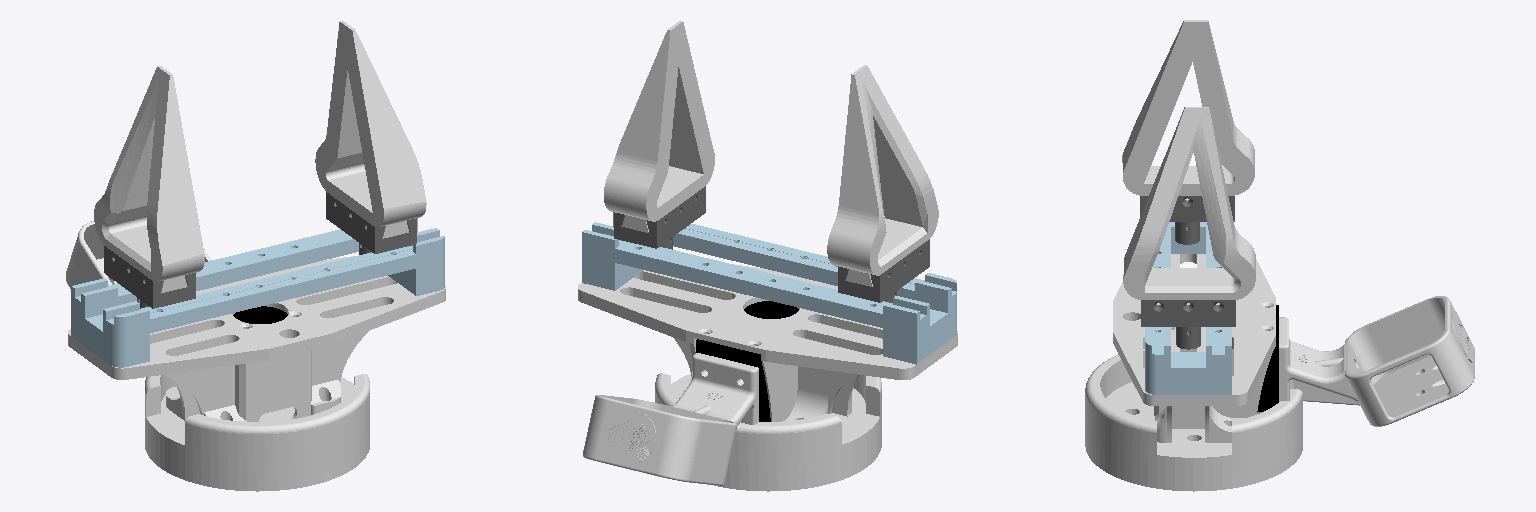
The robot description file, URDF, robot "aloha4franka":
<?xml version="1.0" ?>
<!-- Generated using onshape-to-robot -->
<!-- Onshape https://cad.onshape.com/documents/822c78063286bb98e41ccf48/w/29c938ccac0b1bc6b7904035/e/f3e0108e415eaf8cfb9b64a8 -->
<robot name="aloha4franka">
  <!-- Root link = base_link frame (at origin, axis-aligned) -->
  <link name="base_link"/>
  <joint name="base_link_to_backplate" type="fixed">
    <origin xyz="0 0 0" rpy="0 0 -0.191297"/>
    <parent link="base_link"/>
    <child link="gripper_backplate_v1"/>
  </joint>
  <!-- Link gripper_backplate_v1 -->
  <link name="gripper_backplate_v1">
    <inertial>
      <origin xyz="-0.0021023 0.007873 0.026097" rpy="0 0 0"/>
      <mass value="0.267147"/>
      <inertia ixx="0.000335963" ixy="-4.63353e-06" ixz="-4.17123e-07" iyy="0.000385312" iyz="3.232e-06" izz="0.000470658"/>
    </inertial>
    <!-- Part mocked_motor -->
    <visual>
      <origin xyz="-0.0035789 0.010591 0.012" rpy="0 0 -2.9503"/>
      <geometry>
        <mesh filename="package://assets/mocked_motor.stl"/>
      </geometry>
      <material name="mocked_motor_material">
        <color rgba="0 0 0 1"/>
      </material>
    </visual>
    <collision>
      <origin xyz="-0.0035789 0.010591 0.012" rpy="0 0 -2.9503"/>
      <geometry>
        <mesh filename="package://assets/mocked_motor.stl"/>
      </geometry>
    </collision>
    <!-- Part back_connector -->
    <visual>
      <origin xyz="0 0 0.0755003" rpy="3.14159 -0 0.191297"/>
      <geometry>
        <mesh filename="package://assets/back_connector.stl"/>
      </geometry>
      <material name="back_connector_material">
        <color rgba="0.917647 0.917647 0.917647 1"/>
      </material>
    </visual>
    <collision>
      <origin xyz="0 0 0.0755003" rpy="3.14159 -0 0.191297"/>
      <geometry>
        <mesh filename="package://assets/back_connector.stl"/>
      </geometry>
    </collision>
    <!-- Part aloha_camera_holder -->
    <visual>
      <origin xyz="-0.0079995 0.033417 0.026" rpy="0.191297 -1.5708 0"/>
      <geometry>
        <mesh filename="package://assets/aloha_camera_holder.stl"/>
      </geometry>
      <material name="aloha_camera_holder_material">
        <color rgba="0.917647 0.917647 0.917647 1"/>
      </material>
    </visual>
    <collision>
      <origin xyz="-0.0079995 0.033417 0.026" rpy="0.191297 -1.5708 0"/>
      <geometry>
        <mesh filename="package://assets/aloha_camera_holder.stl"/>
      </geometry>
    </collision>
    <!-- Part bridge_rail_helper -->
    <visual>
      <origin xyz="0.070765 0.029063 0.0484003" rpy="0 0 -2.9503"/>
      <geometry>
        <mesh filename="package://assets/bridge_rail_helper.stl"/>
      </geometry>
      <material name="bridge_rail_helper_material">
        <color rgba="0.768627 0.886275 0.952941 1"/>
      </material>
    </visual>
    <collision>
      <origin xyz="0.070765 0.029063 0.0484003" rpy="0 0 -2.9503"/>
      <geometry>
        <mesh filename="package://assets/bridge_rail_helper.stl"/>
      </geometry>
    </collision>
    <!-- Part gripper_backplate_v1 -->
    <visual>
      <origin xyz="0.0004606 -0.002378 0.0484003" rpy="0 0 -2.9503"/>
      <geometry>
        <mesh filename="package://assets/gripper_backplate_v1.stl"/>
      </geometry>
      <material name="gripper_backplate_v1_material">
        <color rgba="0.917647 0.917647 0.917647 1"/>
      </material>
    </visual>
    <collision>
      <origin xyz="0.0004606 -0.002378 0.0484003" rpy="0 0 -2.9503"/>
      <geometry>
        <mesh filename="package://assets/gripper_backplate_v1.stl"/>
      </geometry>
    </collision>
  </link>
  <!-- Frame camera (dummy link + fixed joint) -->
  <link name="camera">
    <origin xyz="0 0 0" rpy="0 -0 0"/>
    <inertial>
      <origin xyz="0 0 0" rpy="0 0 0"/>
      <mass value="1e-9"/>
      <inertia ixx="0" ixy="0" ixz="0" iyy="0" iyz="0" izz="0"/>
    </inertial>
  </link>
  <joint name="camera_frame" type="fixed">
    <origin xyz="-0.0169866 0.079822 0.0391247" rpy="-0 -0.436333 1.76209"/>
    <parent link="gripper_backplate_v1"/>
    <child link="camera"/>
    <axis xyz="0 0 0"/>
  </joint>
  <!-- Link finger_v1_left -->
  <link name="finger_v1_left">
    <inertial>
      <origin xyz="-0.0124836 0.0275429 -0.00119378" rpy="0 0 0"/>
      <mass value="0.0385688"/>
      <inertia ixx="1.93653e-05" ixy="2.28607e-07" ixz="-5.6596e-08" iyy="8.35053e-06" iyz="1.45353e-06" izz="2.55577e-05"/>
    </inertial>
    <!-- Part finger_v1_left -->
    <visual>
      <origin xyz="-0.0462507 -0.000851056 0.0348025" rpy="-1.5708 0 0"/>
      <geometry>
        <mesh filename="package://assets/finger_v1_left.stl"/>
      </geometry>
      <material name="finger_v1_left_material">
        <color rgba="0.917647 0.917647 0.917647 1"/>
      </material>
    </visual>
    <collision>
      <origin xyz="-0.0462507 -0.000851056 0.0348025" rpy="-1.5708 0 0"/>
      <geometry>
        <mesh filename="package://assets/finger_v1_left.stl"/>
      </geometry>
    </collision>
    <!-- Part finger_to_rail_connector -->
    <visual>
      <origin xyz="-0.0313507 -0.01215 0.009525" rpy="-1.5708 0 0"/>
      <geometry>
        <mesh filename="package://assets/finger_to_rail_connector.stl"/>
      </geometry>
      <material name="finger_to_rail_connector_material">
        <color rgba="0.498039 0.498039 0.498039 1"/>
      </material>
    </visual>
    <collision>
      <origin xyz="-0.0313507 -0.01215 0.009525" rpy="-1.5708 0 0"/>
      <geometry>
        <mesh filename="package://assets/finger_to_rail_connector.stl"/>
      </geometry>
    </collision>
  </link>
  <!-- Frame right_tip (dummy link + fixed joint) -->
  <link name="right_tip">
    <origin xyz="0 0 0" rpy="0 -0 0"/>
    <inertial>
      <origin xyz="0 0 0" rpy="0 0 0"/>
      <mass value="1e-9"/>
      <inertia ixx="0" ixy="0" ixz="0" iyy="0" iyz="0" izz="0"/>
    </inertial>
  </link>
  <joint name="right_tip_frame" type="fixed">
    <origin xyz="-0.0157511 0.089199 -0.00884754" rpy="-1.57078 0 0"/>
    <parent link="finger_v1_left"/>
    <child link="right_tip"/>
    <axis xyz="0 0 0"/>
  </joint>
  <!-- Joint from gripper_backplate_v1 to finger_v1_left -->
  <joint name="right_finger" type="prismatic">
    <origin xyz="-0.0462222 -0.024304 0.0715003" rpy="1.5708 -0 -1.3795"/>
    <parent link="gripper_backplate_v1"/>
    <child link="finger_v1_left"/>
    <axis xyz="0 0 1"/>
    <limit effort="10" velocity="10" lower="-0.04" upper="0"/>
  </joint>
  <!-- Link finger_to_rail_connector -->
  <link name="finger_to_rail_connector">
    <inertial>
      <origin xyz="-0.0124834 0.0275429 0.00120375" rpy="0 0 0"/>
      <mass value="0.0385691"/>
      <inertia ixx="1.93644e-05" ixy="2.28671e-07" ixz="5.6556e-08" iyy="8.34977e-06" iyz="-1.44639e-06" izz="2.55578e-05"/>
    </inertial>
    <!-- Part finger_to_rail_connector_2 -->
    <visual>
      <origin xyz="-0.0313507 -0.01215 0.009525" rpy="-1.5708 0 0"/>
      <geometry>
        <mesh filename="package://assets/finger_to_rail_connector.stl"/>
      </geometry>
      <material name="finger_to_rail_connector_2_material">
        <color rgba="0.498039 0.498039 0.498039 1"/>
      </material>
    </visual>
    <collision>
      <origin xyz="-0.0313507 -0.01215 0.009525" rpy="-1.5708 0 0"/>
      <geometry>
        <mesh filename="package://assets/finger_to_rail_connector.stl"/>
      </geometry>
    </collision>
    <!-- Part finger_v1_right -->
    <visual>
      <origin xyz="-0.0462507 -0.000851056 -0.0348025" rpy="-1.5708 -0 0"/>
      <geometry>
        <mesh filename="package://assets/finger_v1_right.stl"/>
      </geometry>
      <material name="finger_v1_right_material">
        <color rgba="0.917647 0.917647 0.917647 1"/>
      </material>
    </visual>
    <collision>
      <origin xyz="-0.0462507 -0.000851056 -0.0348025" rpy="-1.5708 -0 0"/>
      <geometry>
        <mesh filename="package://assets/finger_v1_right.stl"/>
      </geometry>
    </collision>
  </link>
  <!-- Frame left_tip (dummy link + fixed joint) -->
  <link name="left_tip">
    <origin xyz="0 0 0" rpy="0 -0 0"/>
    <inertial>
      <origin xyz="0 0 0" rpy="0 0 0"/>
      <mass value="1e-9"/>
      <inertia ixx="0" ixy="0" ixz="0" iyy="0" iyz="0" izz="0"/>
    </inertial>
  </link>
  <joint name="left_tip_frame" type="fixed">
    <origin xyz="-0.0157511 0.089199 0.00884753" rpy="-1.57082 -0 0"/>
    <parent link="finger_to_rail_connector"/>
    <child link="left_tip"/>
    <axis xyz="0 0 0"/>
  </joint>
  <!-- Joint from gripper_backplate_v1 to finger_to_rail_connector -->
  <joint name="left_finger" type="prismatic">
    <origin xyz="0.051878 -0.004898 0.0715003" rpy="1.5708 -0 -1.3795"/>
    <parent link="gripper_backplate_v1"/>
    <child link="finger_to_rail_connector"/>
    <axis xyz="0 0 1"/>
    <limit effort="10" velocity="10" lower="0" upper="0.04"/>
    <mimic joint="right_finger" multiplier="-1" offset="0"/>
  </joint>
</robot>

--- Facts derived from the render (not from the file) ---
The picture shows the robot from 3 angles, left to right: view 1: azimuth 30°, elevation 25°; view 2: azimuth 150°, elevation 25°; view 3: azimuth 270°, elevation 25°; orthographic projection.
Model aloha4franka with 7 links and 6 joints (2 prismatic, 4 fixed), rooted at base_link, posed all joints at 0.
Links seen in each view (by area): view 1: gripper_backplate_v1, finger_v1_left, finger_to_rail_connector; view 2: gripper_backplate_v1, finger_v1_left, finger_to_rail_connector; view 3: gripper_backplate_v1, finger_to_rail_connector, finger_v1_left.
Boxes of the visible links, left/top/right/bottom form: gripper_backplate_v1: left=66, top=218, right=445, bottom=491; finger_v1_left: left=94, top=66, right=204, bottom=308; finger_to_rail_connector: left=315, top=21, right=426, bottom=254; gripper_backplate_v1: left=578, top=212, right=957, bottom=491; finger_v1_left: left=827, top=65, right=938, bottom=302; finger_to_rail_connector: left=604, top=21, right=714, bottom=249; gripper_backplate_v1: left=1085, top=222, right=1474, bottom=491; finger_to_rail_connector: left=1123, top=107, right=1255, bottom=349; finger_v1_left: left=1122, top=20, right=1254, bottom=244.
Size in the robot's own frame: 0.15 by 0.1571 by 0.1697 metres.
Meshes: 8 distinct files referenced, 9 mesh visuals loaded (8 binary STL).
